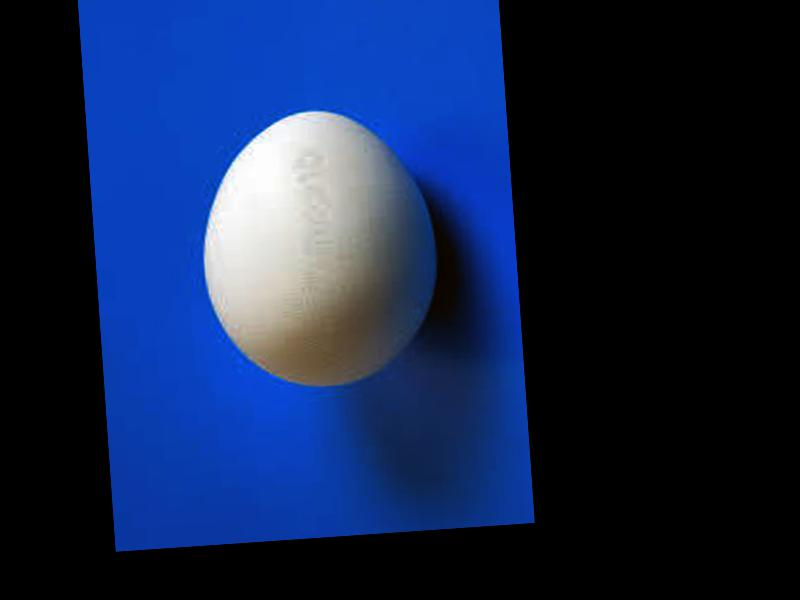Eggs: (194, 99, 447, 396)
